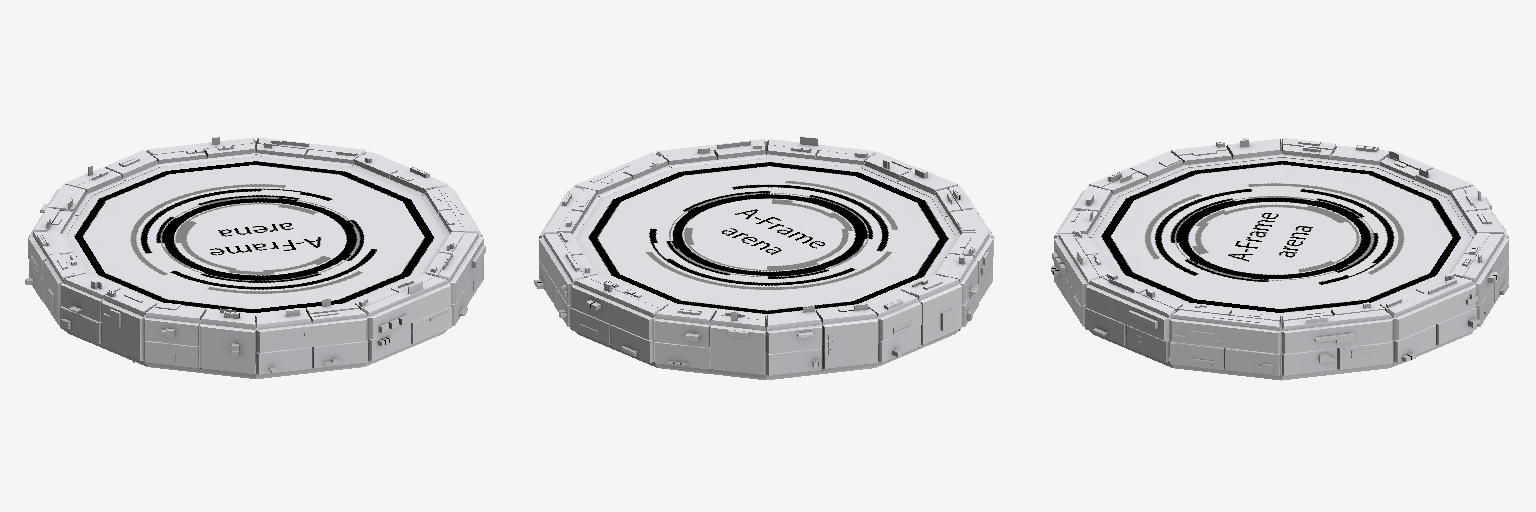
3 views of the same model, side by side, from view 1: azimuth 30°, elevation 25°; view 2: azimuth 150°, elevation 25°; view 3: azimuth 270°, elevation 25° (orthographic).
Visible parts, largest first — view 1: platform; view 2: platform; view 3: platform.
Part boxes in pixels (x1,y1,x2,y2): platform: (25,137,485,378); platform: (534,136,993,379); platform: (1051,138,1508,380).
Bounding box in the file's own units: 10.15 × 1.6 × 10.13.
Materials: 1 (1 with a texture image).